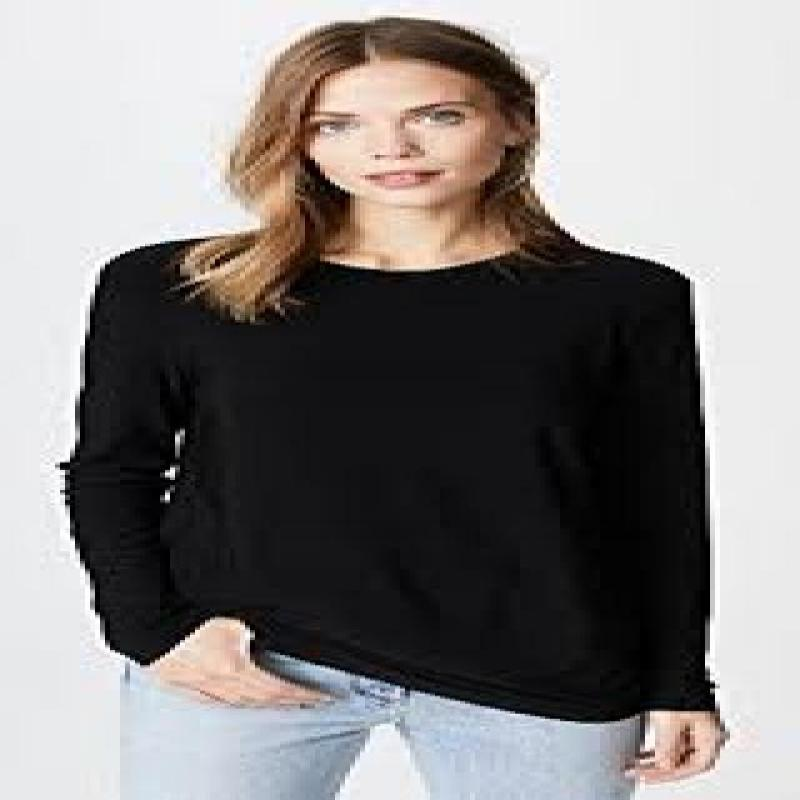long sleeve shirt: (60, 229, 720, 728)
trousers: (115, 647, 648, 800)
